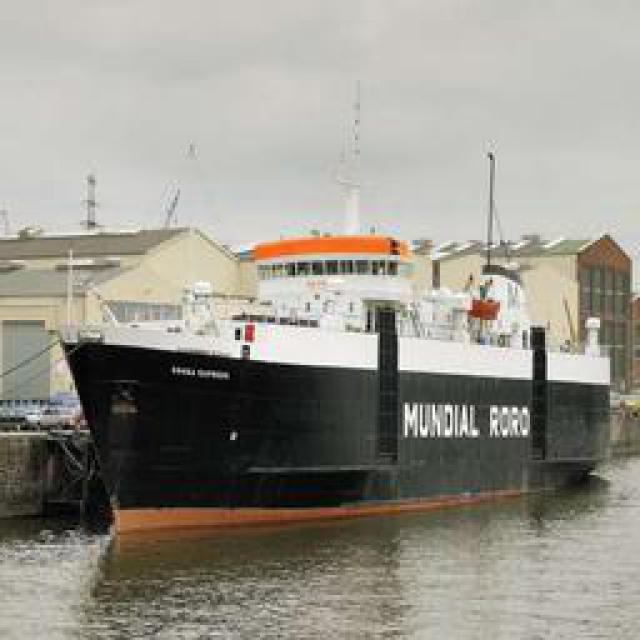Ship: (53, 204, 618, 527)
